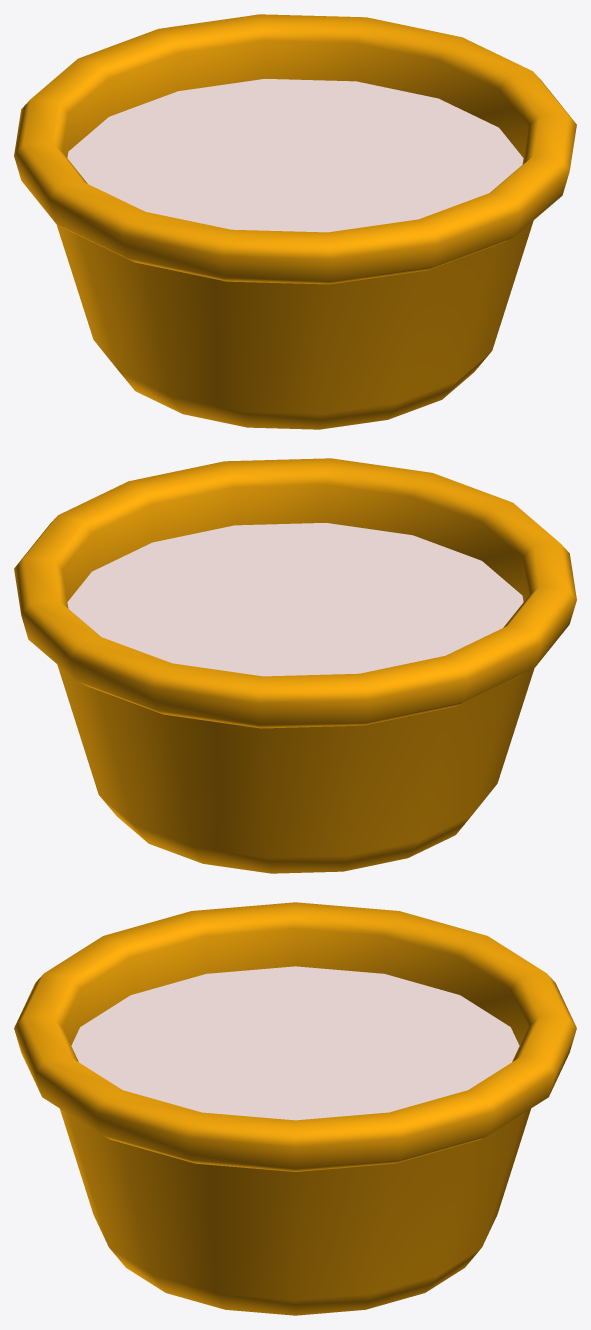
Rendered from Store_1_Ramekin_1.glb.
3 renders of one model, top to bottom at view 1: azimuth 30°, elevation 25°; view 2: azimuth 150°, elevation 25°; view 3: azimuth 270°, elevation 25°, orthographic.
Visible parts, largest first — view 1: Store_1_Ramekin_1; view 2: Store_1_Ramekin_1; view 3: Store_1_Ramekin_1.
Boxes of the visible parts, bbox=[...] form: Store_1_Ramekin_1: bbox=[14, 14, 576, 429]; Store_1_Ramekin_1: bbox=[14, 458, 576, 873]; Store_1_Ramekin_1: bbox=[14, 902, 576, 1315].
Bounding box in the file's own units: 0.2232 × 0.1006 × 0.2232.
Materials: 1 (1 with a texture image).
